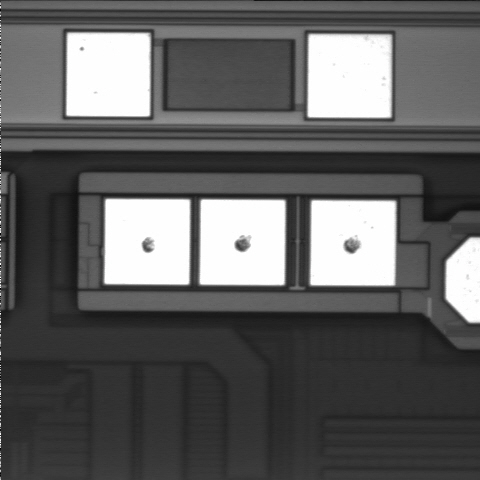pad: (104, 199, 190, 284), (310, 200, 396, 285), (200, 200, 285, 285), (308, 34, 391, 118), (67, 33, 150, 116)
